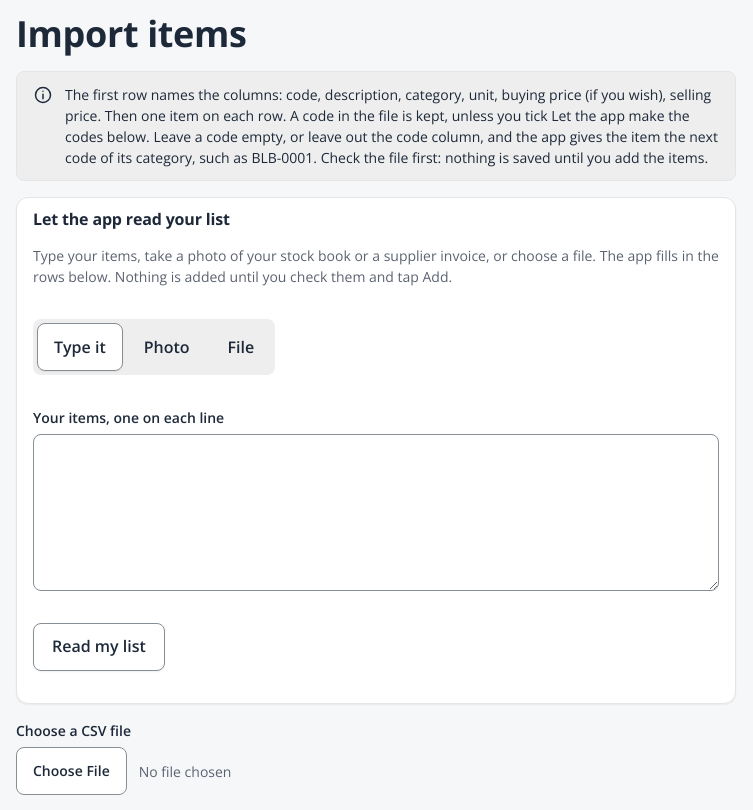
Test case: the setup helper on Import items › says plainly when the list could not be read, and the owner types it or imports a file
The image size is (753, 810).
Type "nails" into the text box labelled "Your items, one on each line".
click(376, 513); type("nails")  # box [33,434,719,591]
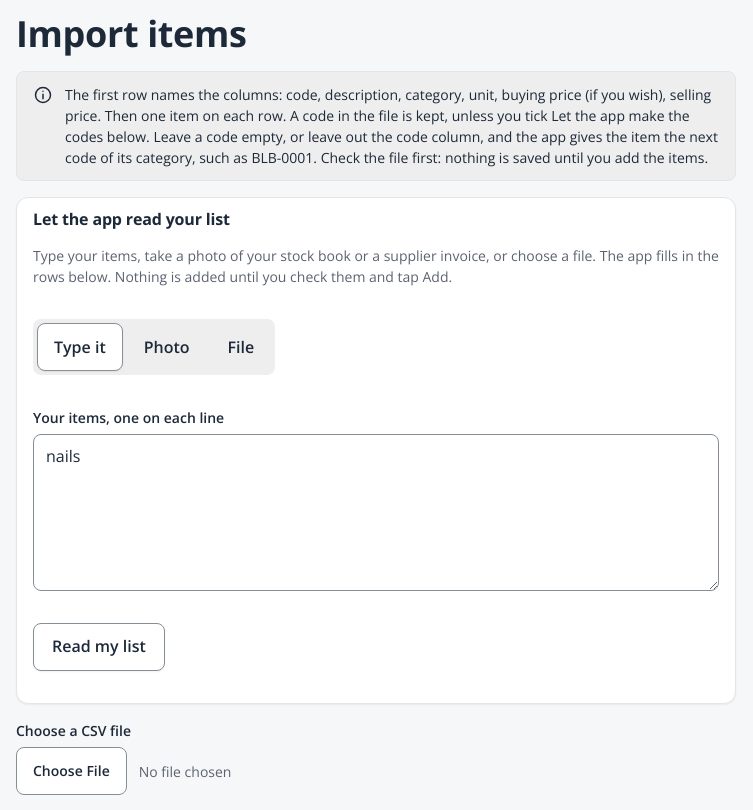
Click the button "Read my list".
click(99, 647)  # box [33,623,165,671]
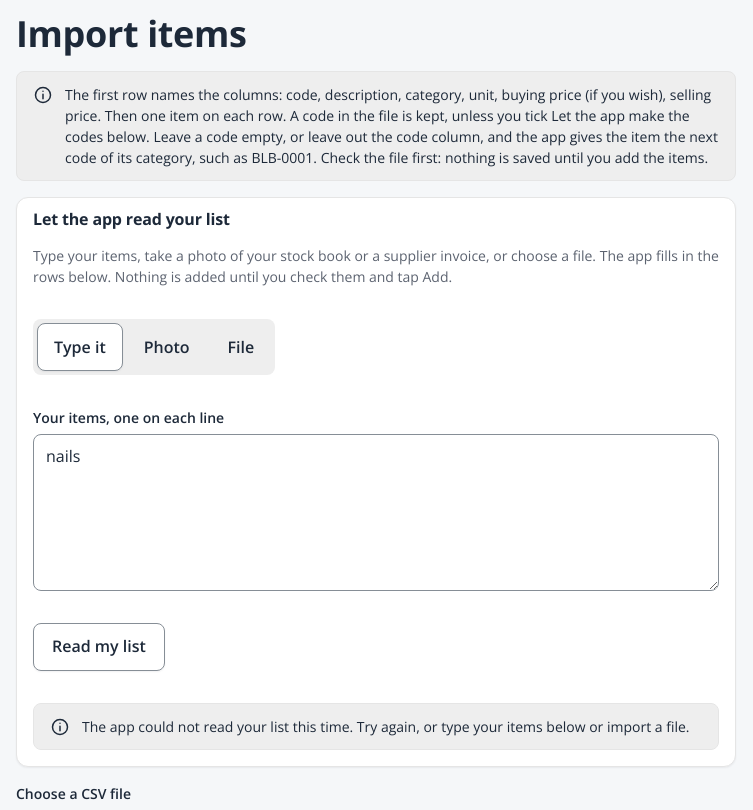
Now the text "The app could not read your list this time. Try again, or type your items below or import a file." is shown, box [82,717,690,736]
Click the button "Read my list".
click(99, 647)  # box [33,623,165,671]
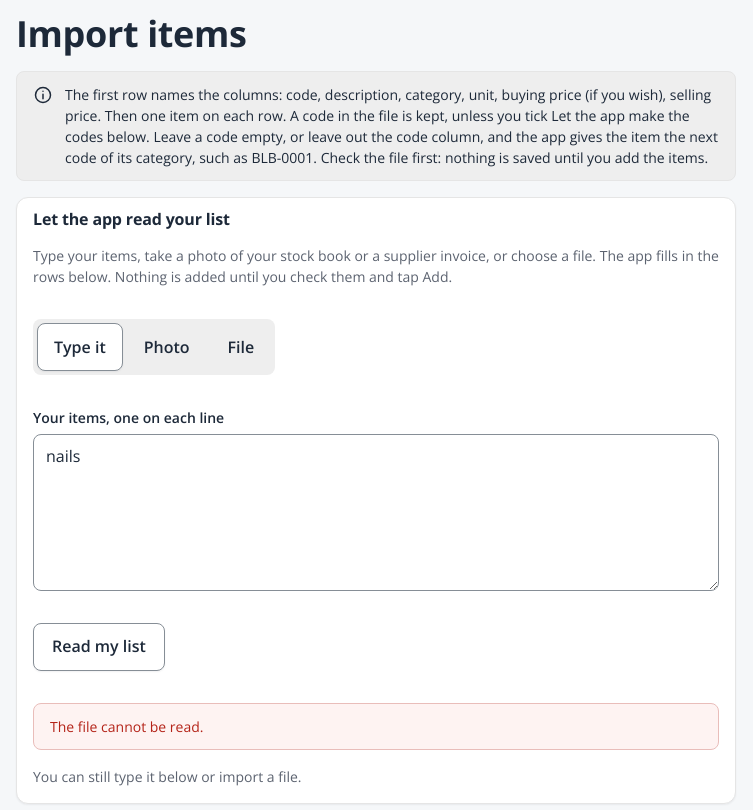
Now the text "The file cannot be read." is shown, box [33,703,719,750]
Now the text "You can still type it below or import a file." is shown, box [33,767,302,786]
